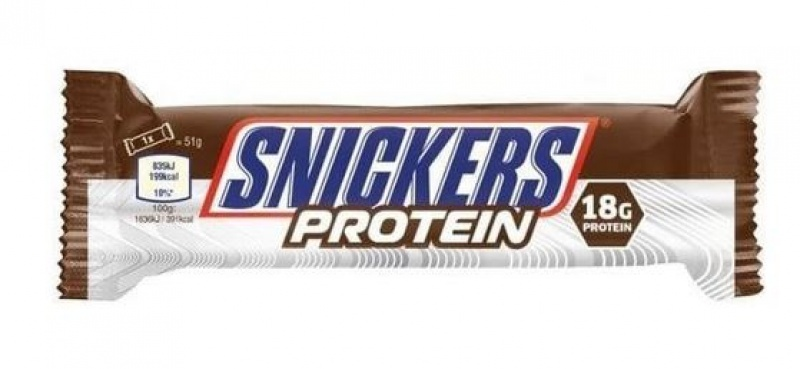snickers: (216, 125, 580, 207)
